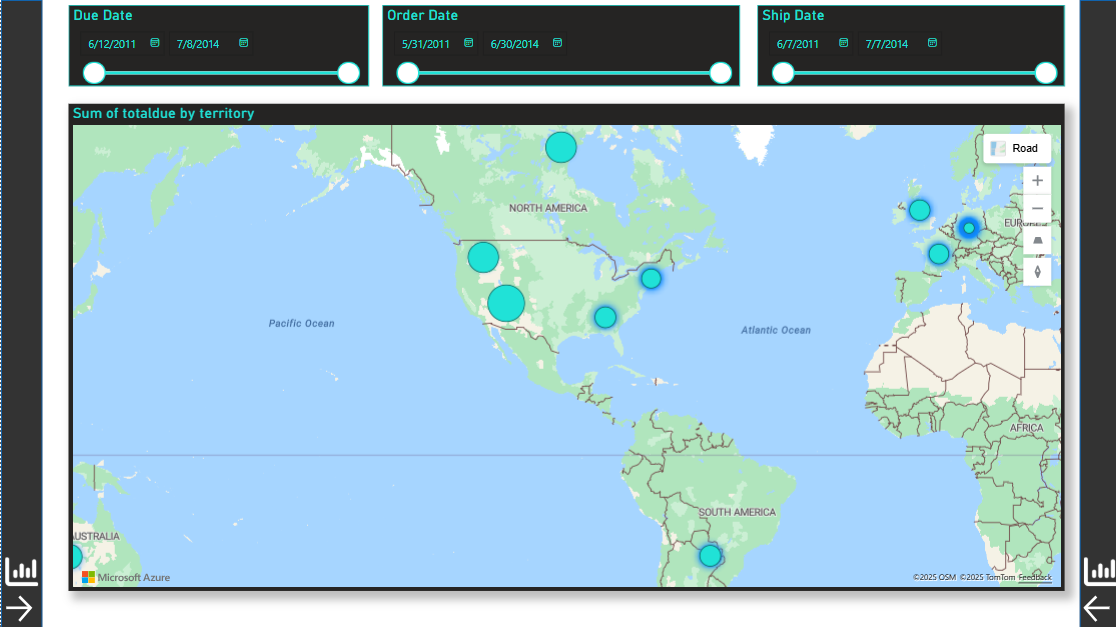

The dashboard page shown, as its layout file describes it:
{"tool":"powerbi","page":{"name":"Map","canvas":[1280,720],"ordinal":1},"visuals":[{"type":"shape","box":[0,0,47.3,720.3],"z":0,"group":"g1"},{"type":"shape","box":[1232.9,0,47.3,720.3],"z":0,"group":"g2"},{"type":"azureMap","title":"Sum of totaldue by territory","fields":{"Size":["Sum(silver factsales.totaldue)"],"Category":["silver dimterritory.name"]},"box":[77.1,118.6,1138.6,557.1],"z":0},{"type":"slicer","title":"Due Date","fields":{"Values":["silver factsales.duedate"]},"box":[77.1,5.7,342.9,92.9],"z":1000},{"type":"actionButton","box":[0,675.5,47.3,39.8],"z":1000,"group":"g1"},{"type":"actionButton","box":[1232.9,675.7,47.1,40],"z":1000,"group":"g2"},{"type":"slicer","title":"Order Date","fields":{"Values":["silver factsales.orderdate"]},"box":[435.7,5.7,408.6,92.9],"z":2000},{"type":"image","box":[0,631.9,47.3,43.5],"z":2000,"group":"g1"},{"type":"image","box":[1232.9,631.9,47.3,43.5],"z":2000,"group":"g2"},{"type":"slicer","title":"Ship Date","fields":{"Values":["silver factsales.shipdate"]},"box":[864.3,5.7,351.4,92.9],"z":3000},{"type":"group","id":"g1","title":"Group 1","box":[0,0,47.3,720.3],"z":4000},{"type":"group","id":"g2","title":"Group 2","box":[1232.9,0,47.3,720.3],"z":5000}]}

Visuals, with their boxes in screenshot pixels (x1, y1, x2, y2):
shape: (left=0, top=0, right=41, bottom=619)
shape: (left=1060, top=0, right=1101, bottom=619)
"Sum of totaldue by territory" azureMap: (left=66, top=102, right=1045, bottom=581)
"Due Date" slicer: (left=66, top=5, right=361, bottom=85)
actionButton: (left=0, top=581, right=41, bottom=615)
actionButton: (left=1060, top=581, right=1101, bottom=615)
"Order Date" slicer: (left=375, top=5, right=726, bottom=85)
image: (left=0, top=543, right=41, bottom=581)
image: (left=1060, top=543, right=1101, bottom=581)
"Ship Date" slicer: (left=743, top=5, right=1045, bottom=85)
"Group 1" group: (left=0, top=0, right=41, bottom=619)
"Group 2" group: (left=1060, top=0, right=1101, bottom=619)
